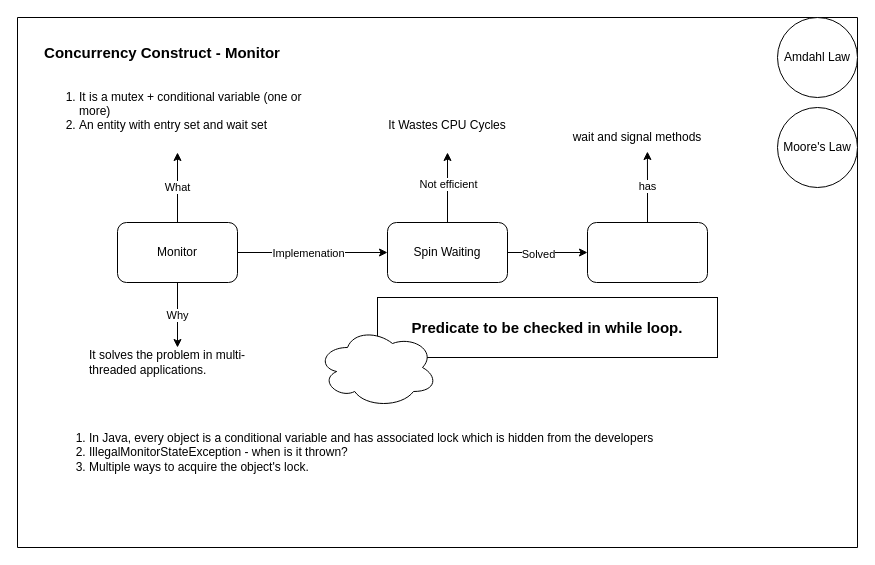
Some shapes in this 875 by 565 pixel diagram are drawn without their labels. Here are the shapes that lost their labels. From the top down, the centre of each, then its label:
At point 647,252: "Condition Variable".
At point 377,367: "think why?".
